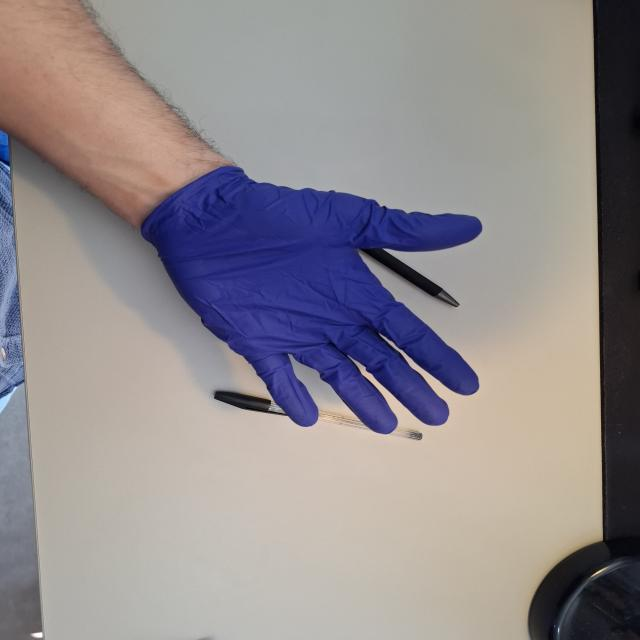glove_on: (137, 163, 486, 438)
